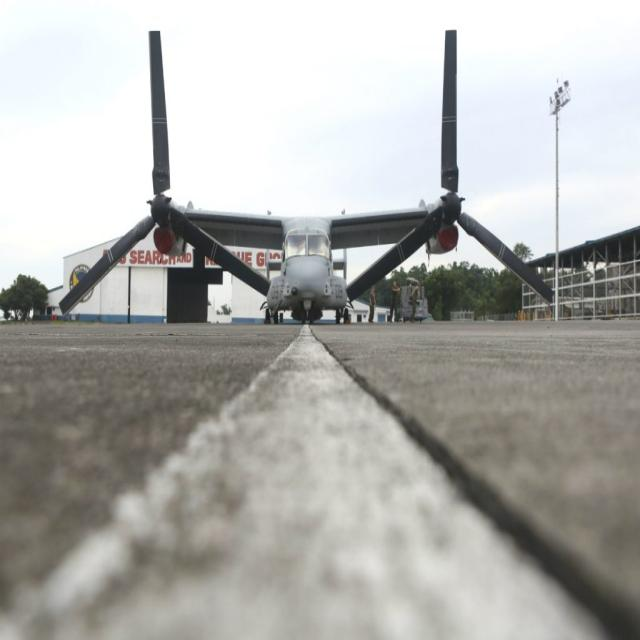MIL_Plane: (58, 30, 554, 325)
